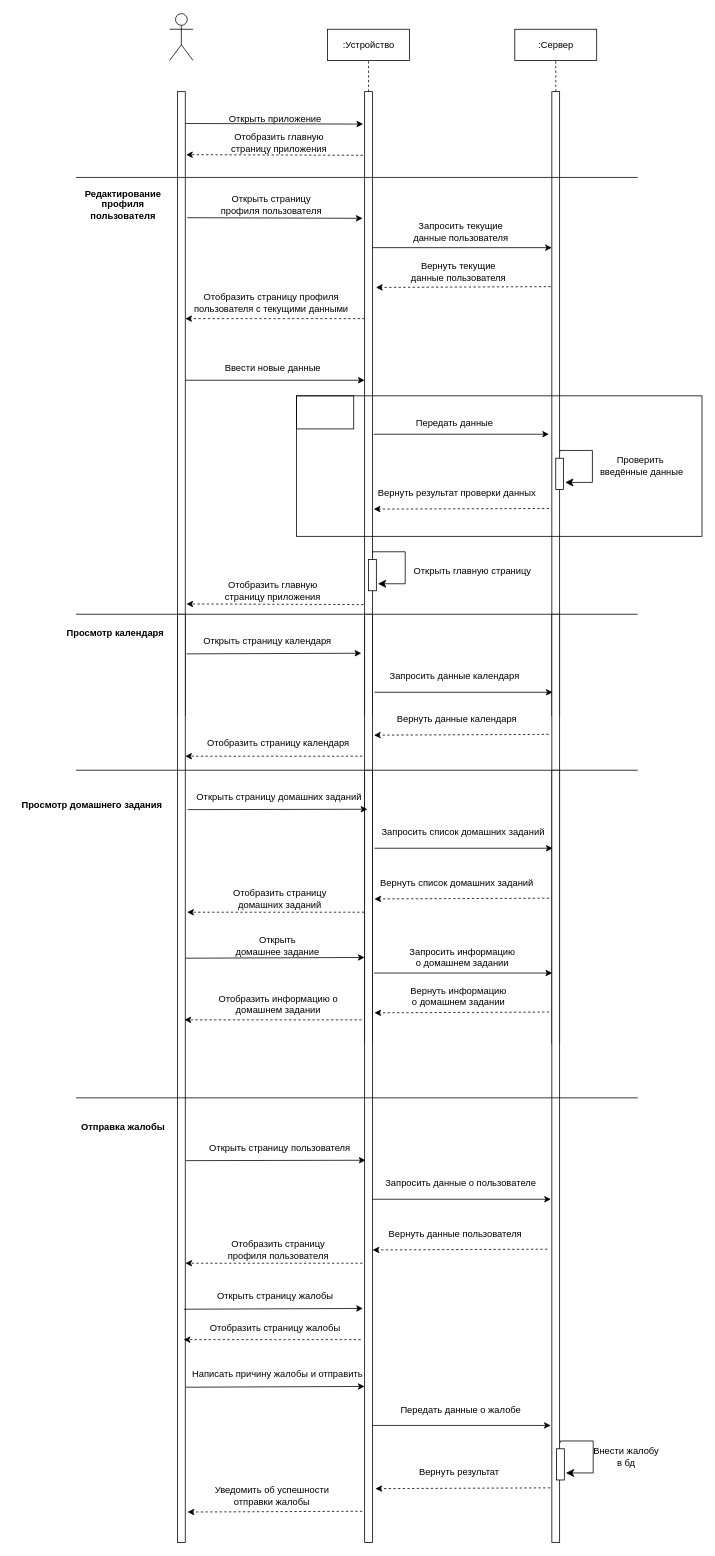
This 715x1556 diagram has some shape labels left out. The shapes that lost their labels are listed below. From the top down, each one's centre as x and y in pixels, then its label:
At [181,36]: "Зарегистрированный пользователь".
At [325,412]: "loop".
